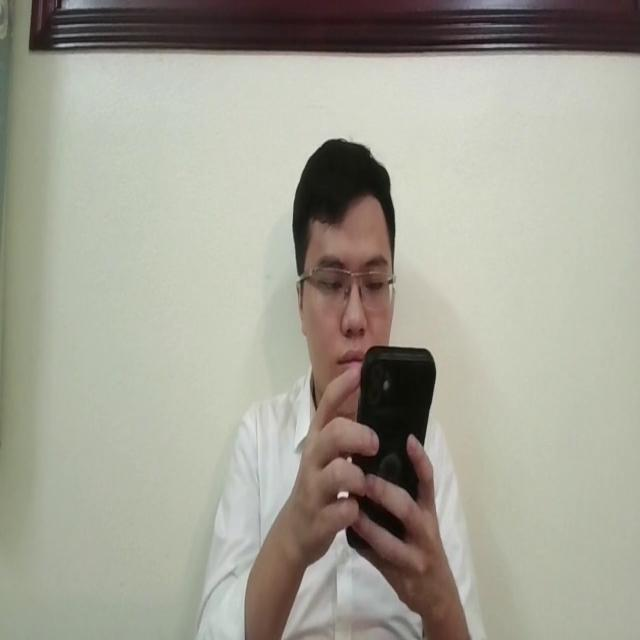phone: (341, 336, 438, 551)
student: (196, 135, 484, 640)
